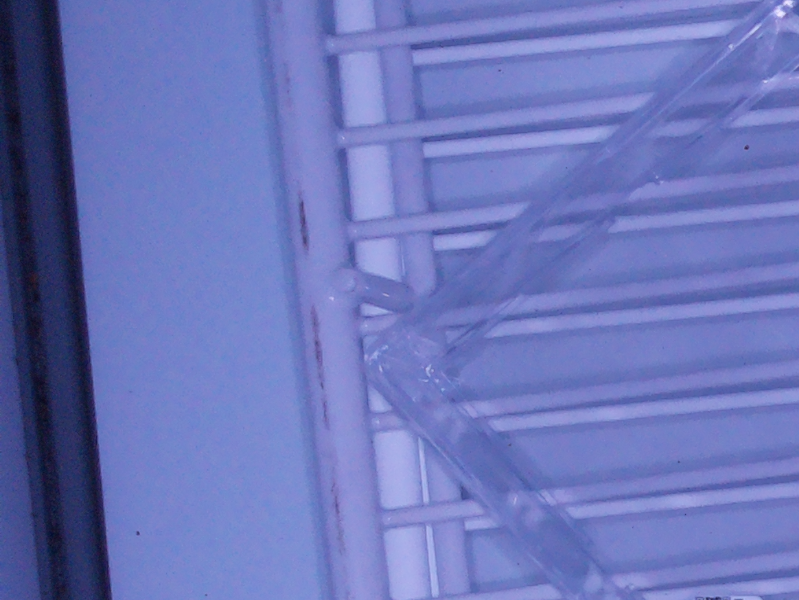plate: (362, 1, 799, 600)
